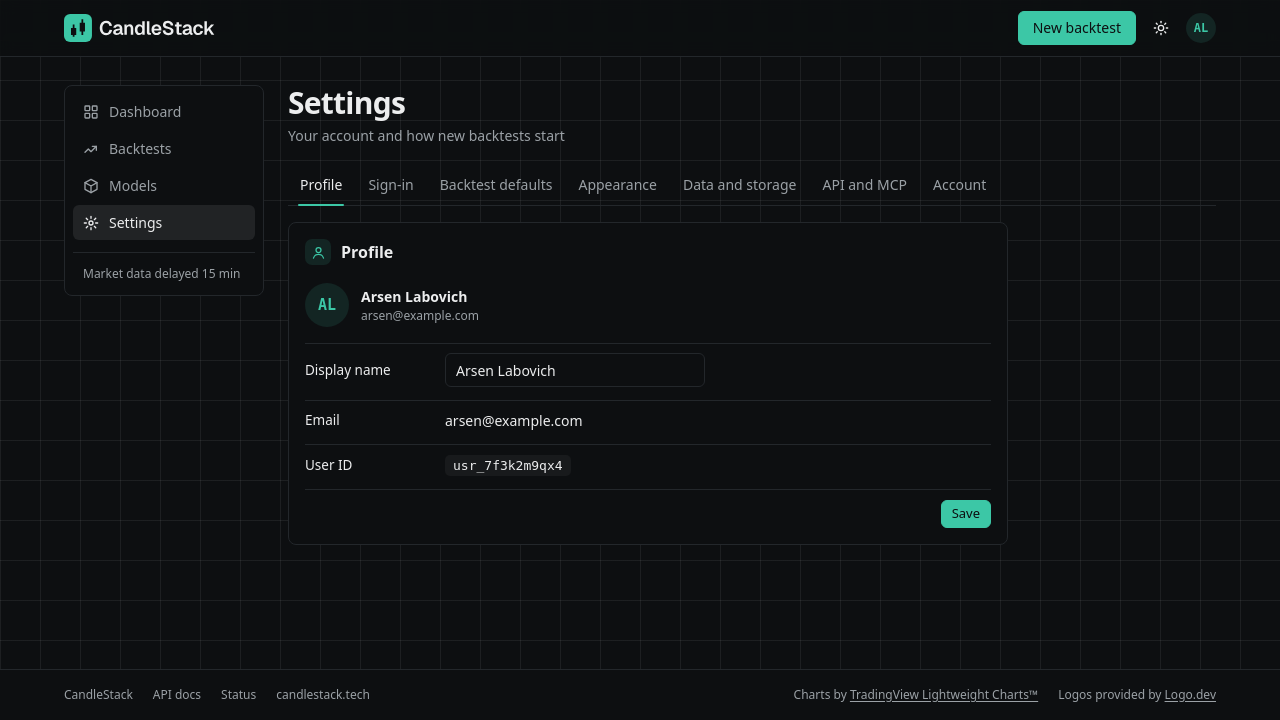
Test: Profile › says why the name could not be saved and keeps it to try again
In the field named "Display name": coordinates (575, 370) [445, 353, 705, 387], type " Jr"
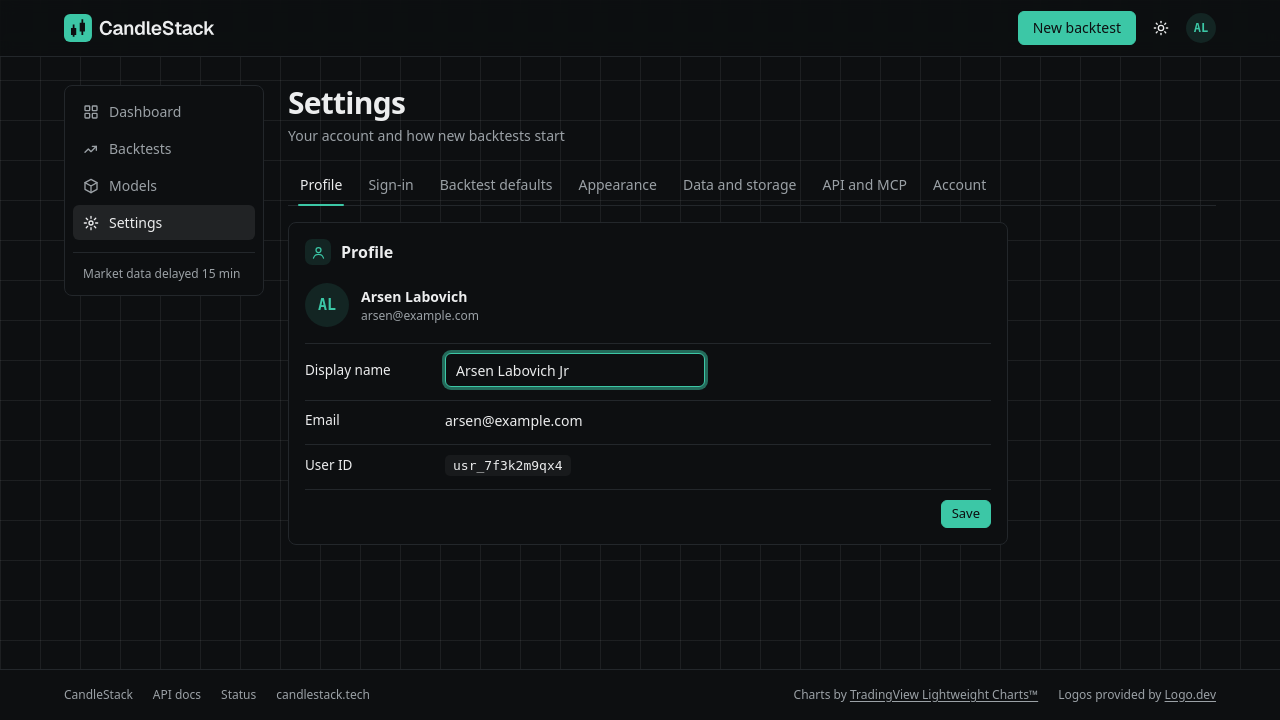
Press Enter
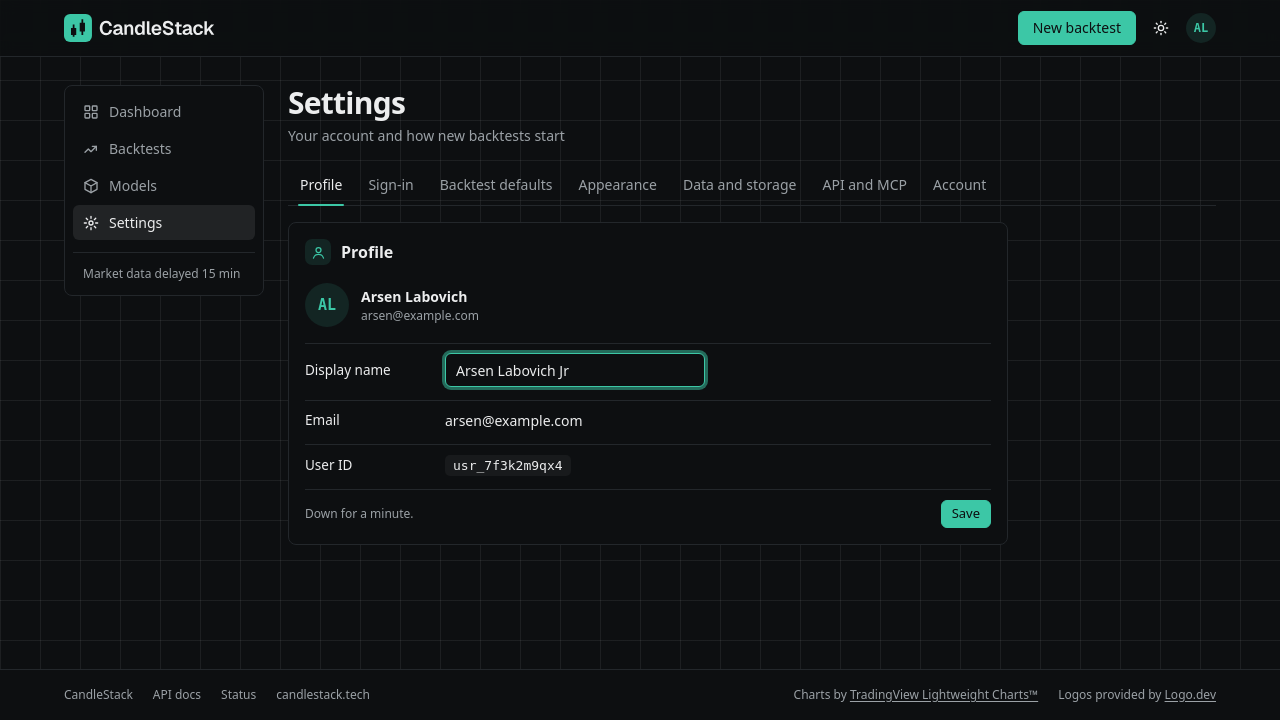
Check: the button "Save" is enabled, box [941, 500, 991, 528]
Check: the field named "Display name" holds "Arsen Labovich Jr", box [445, 353, 705, 387]
Check: the message reads "Down for a minute.", box [305, 504, 414, 522]
